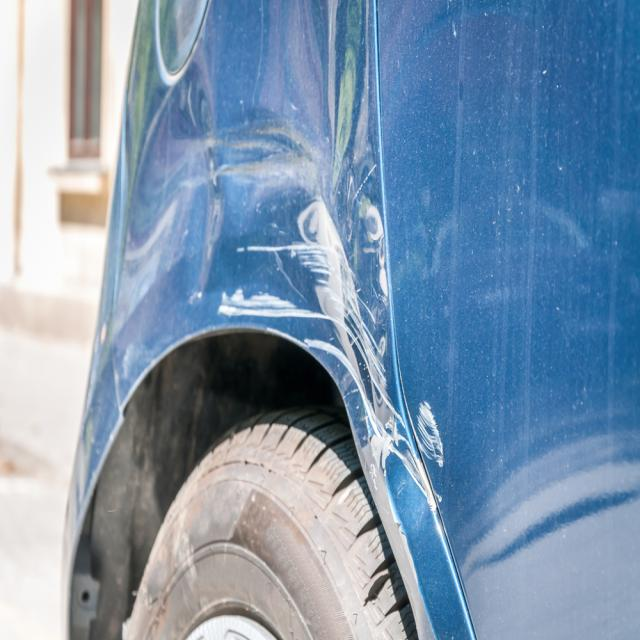Cabossage: (218, 4, 402, 406)
Rayure: (218, 195, 448, 515)
